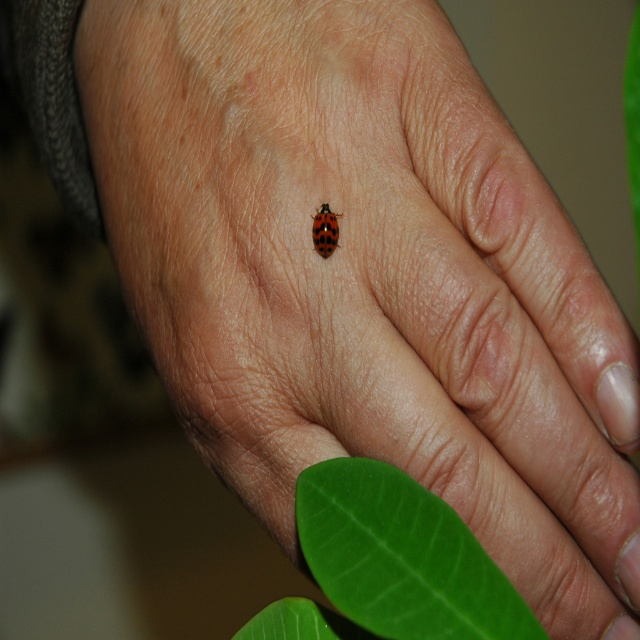Ladybug: (308, 201, 344, 260)
